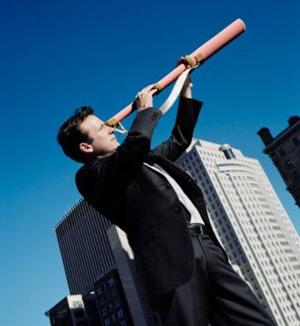person: (56, 56, 276, 325)
